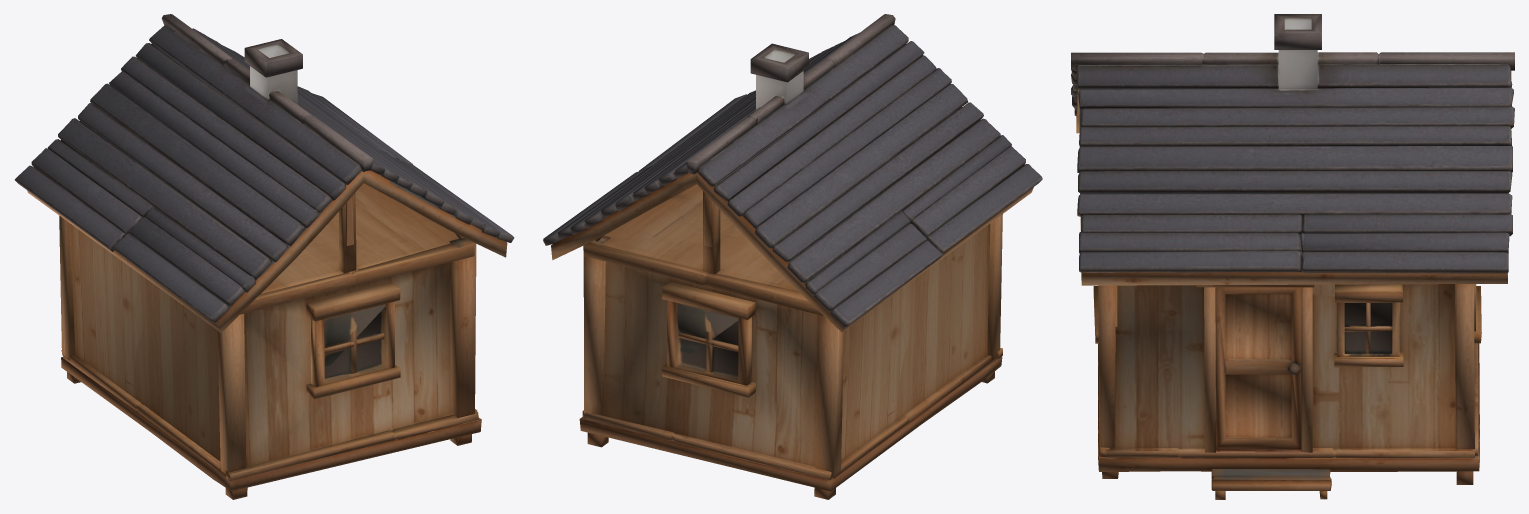
File: tripo_convert_2b4c1a5b-116a-43fa-9383-d7c81045091f.fbx
The picture shows the model from 3 angles, left to right: view 1: azimuth 30°, elevation 25°; view 2: azimuth 150°, elevation 25°; view 3: azimuth 270°, elevation 25°; orthographic projection. The views are drawn at different scales.
Visible parts, largest first — view 1: tripo_node_2b4c1a5b; view 2: tripo_node_2b4c1a5b; view 3: tripo_node_2b4c1a5b.
Boxes of the visible parts, <box> form: tripo_node_2b4c1a5b: <box>15,14,514,499</box>; tripo_node_2b4c1a5b: <box>543,14,1042,499</box>; tripo_node_2b4c1a5b: <box>1071,14,1514,499</box>.
Bounding box in the file's own units: 0.916 × 0.9902 × 0.998.
1 material, 1 textured.
